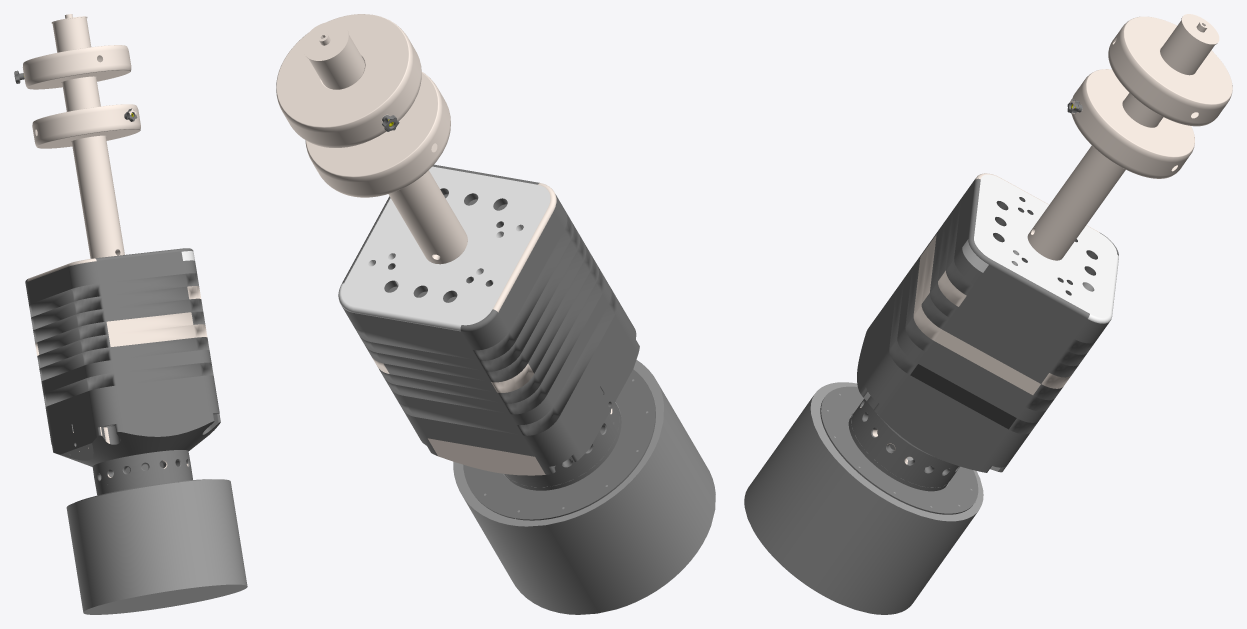
Rendered from seperate-3-simplified v6.fbx.
The picture shows the model from 3 angles, left to right: view 1: azimuth 30°, elevation 25°; view 2: azimuth 150°, elevation 25°; view 3: azimuth 270°, elevation 25°; orthographic projection. The views are drawn at different scales.
Visible parts, largest first — view 1: Body1 (×17); view 2: Body1 (×21); view 3: Body1 (×20).
Boxes of the visible parts, <box> form: Body1 (×17): <box>22,17,247,614</box>; Body1 (×21): <box>276,14,715,614</box>; Body1 (×20): <box>744,14,1232,614</box>.
Bounding box in the file's own units: 0.4546 × 1.28 × 0.9314.
